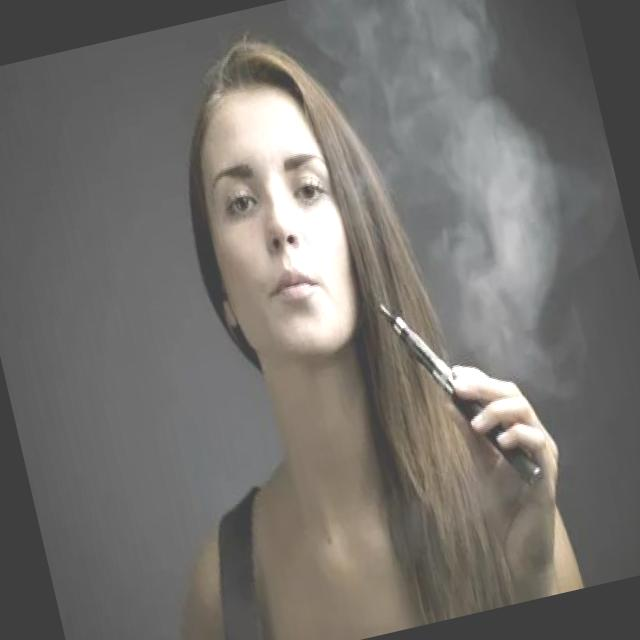smoke: (374, 269, 546, 512)
